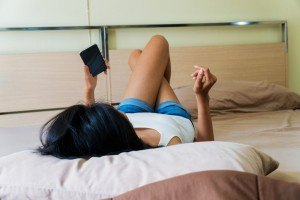Humano: (37, 33, 221, 155)
